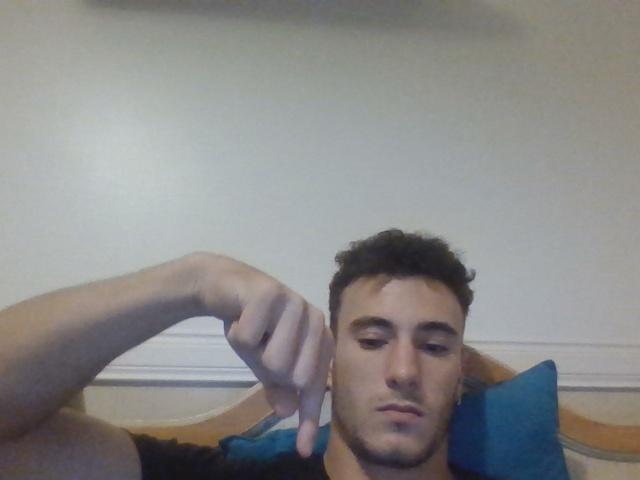Down: (225, 260, 334, 457)
